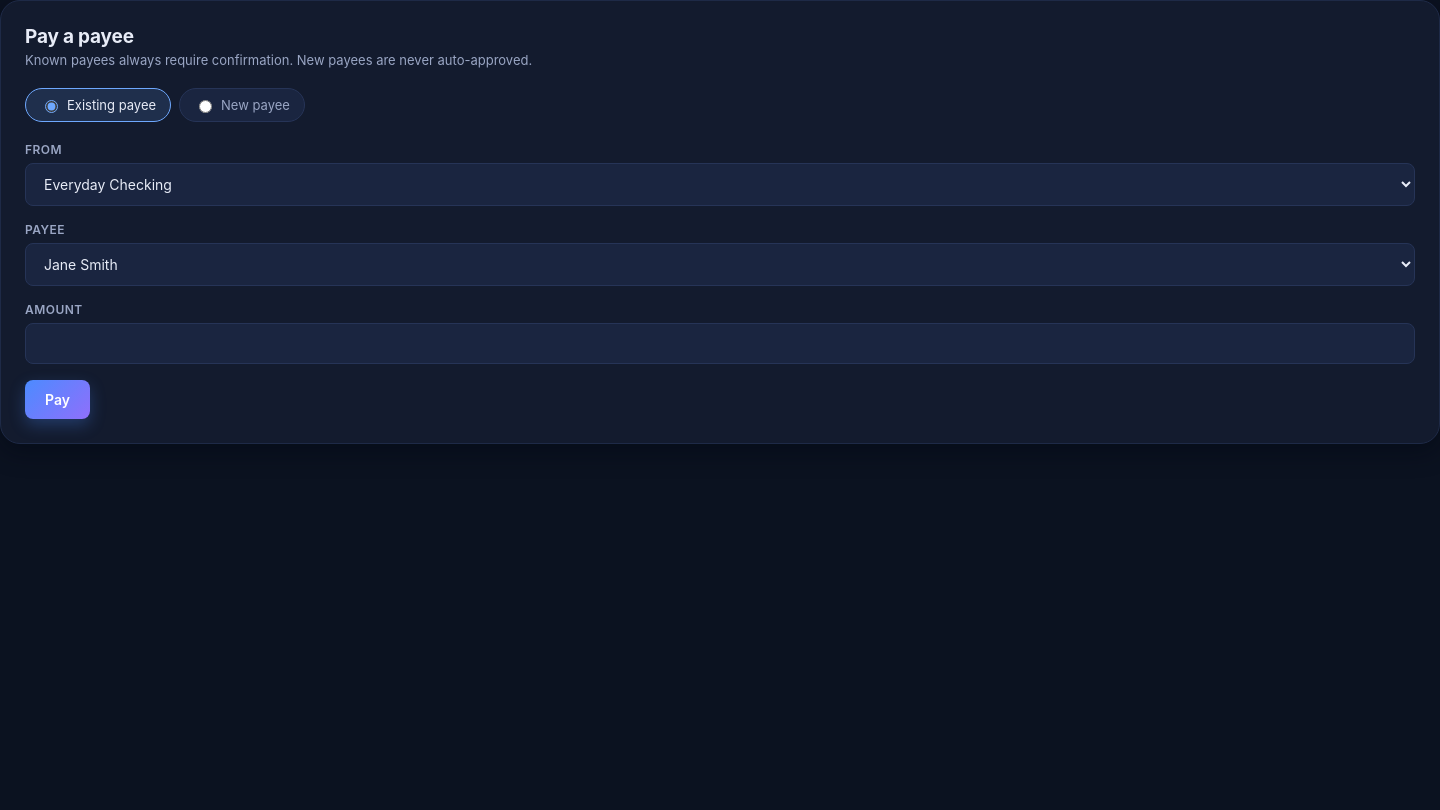
Test case: PayPayeeForm — loading state and toast › ignores a second click while the first payment is still processing
In the number field: (720, 344) top-left (25, 323), bottom-right (1415, 364), type "20"
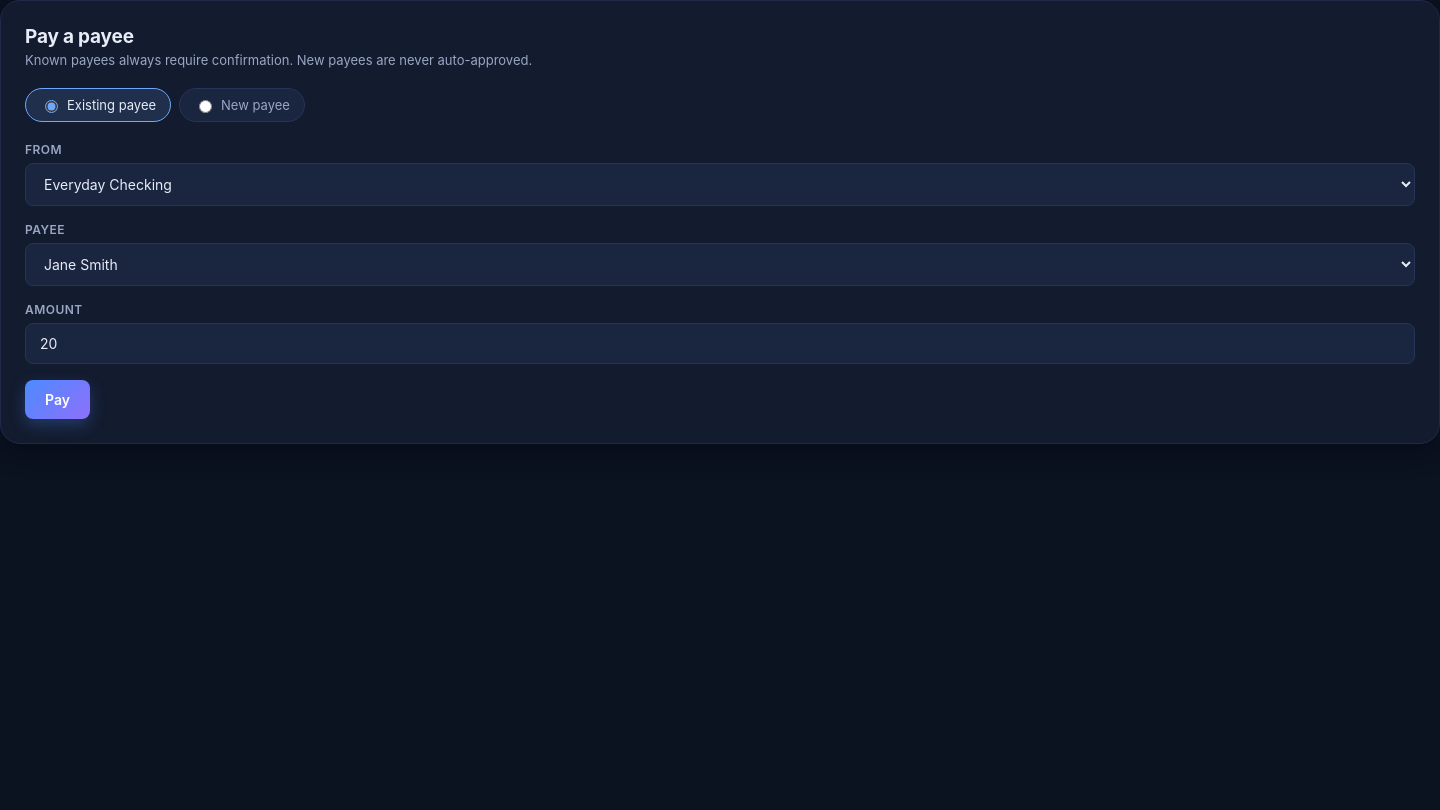
Submit the form, box top-left (25, 142), bottom-right (1415, 419)
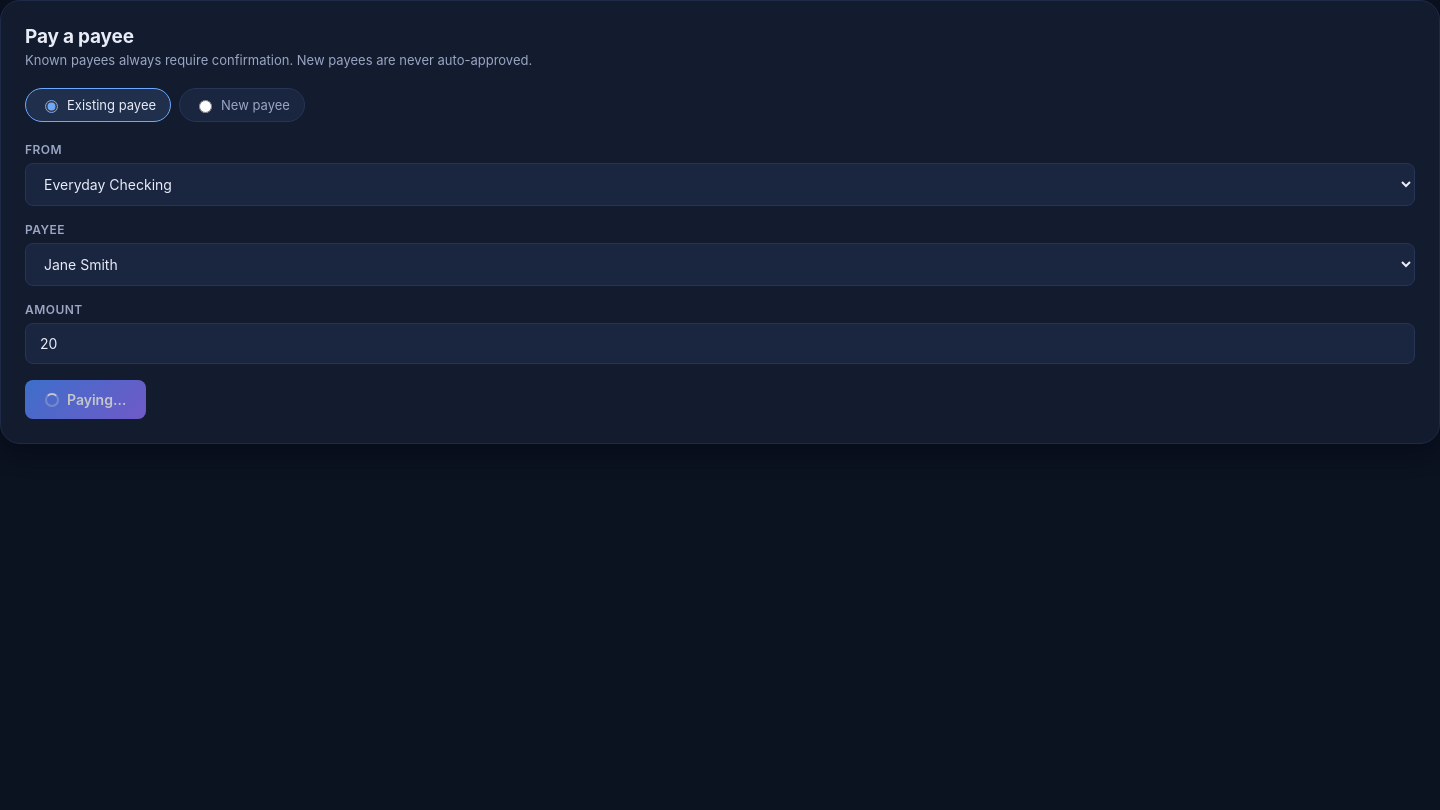
Submit the form, box top-left (25, 142), bottom-right (1415, 419)
Wait 1200 ms
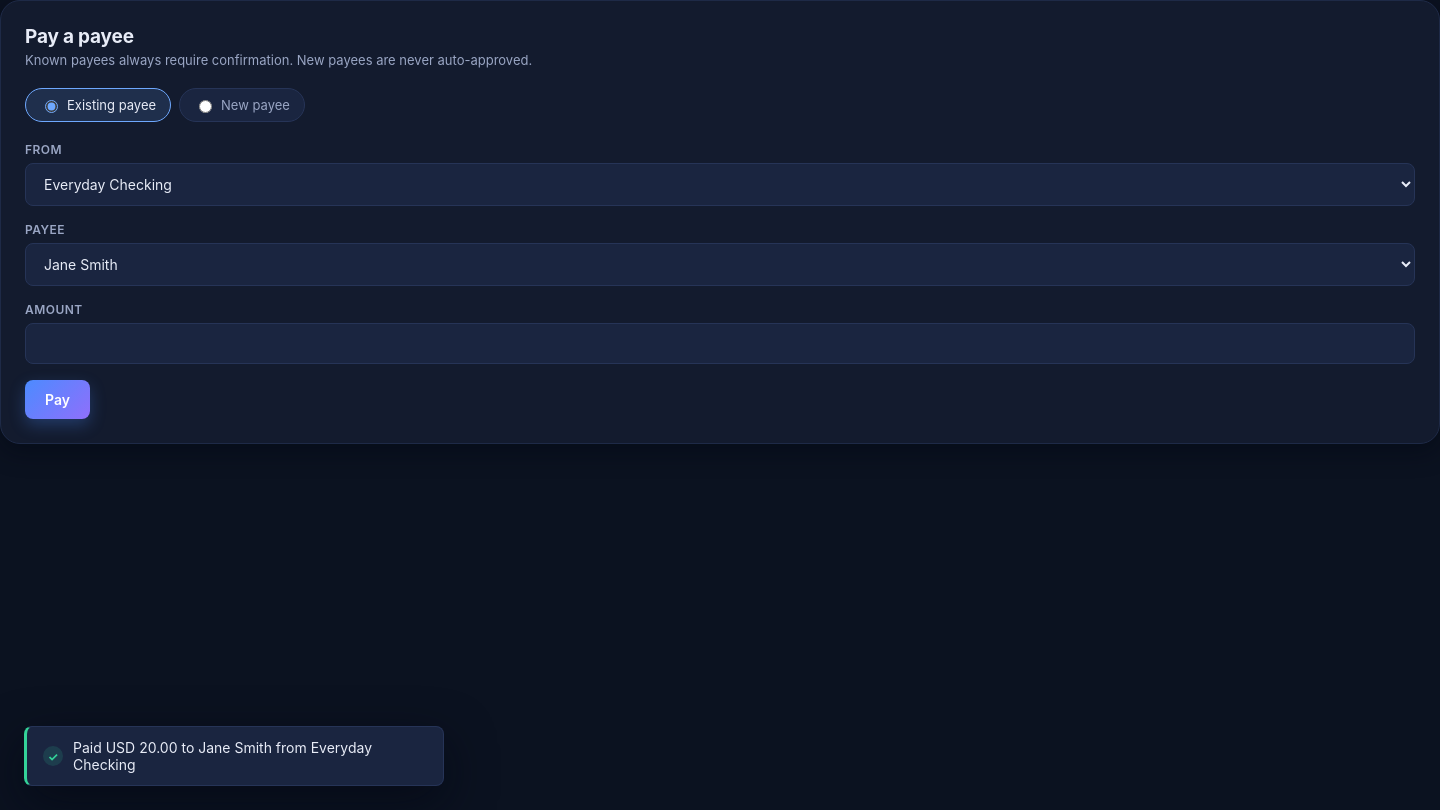
Result: the text "✓ Paid USD 20.00 to Jane Smith from Everyday Checking" is shown once at top-left (24, 726), bottom-right (444, 786)
